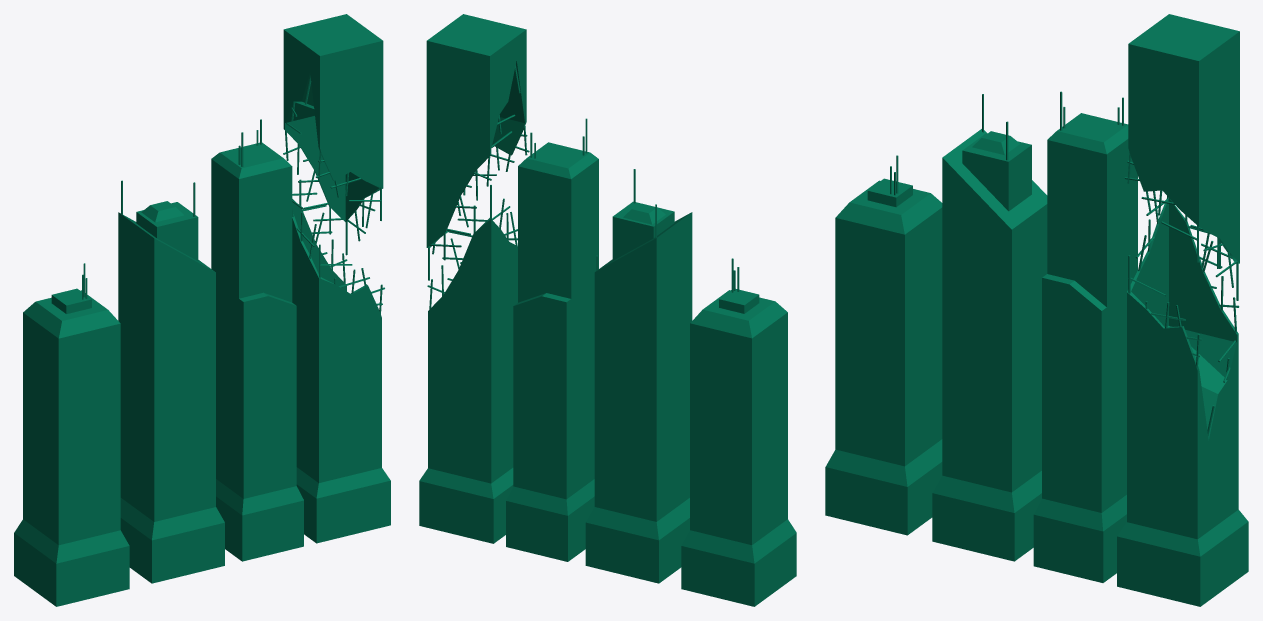
The model's file is MESH_Skyscraper_Pack.fbx.
3 renders of one model, left to right at view 1: azimuth 30°, elevation 25°; view 2: azimuth 150°, elevation 25°; view 3: azimuth 330°, elevation 25°, orthographic. The views are drawn at different scales.
Visible parts, largest first — view 1: Skyscraper_Two, Skyscraper_Three, Skyscraper_One, Skyscraper_Four_Lower, Skyscraper_Four_Upper; view 2: Skyscraper_Two, Skyscraper_Three, Skyscraper_One, Skyscraper_Four_Lower, Skyscraper_Four_Upper; view 3: Skyscraper_Two, Skyscraper_Four_Lower, Skyscraper_Three, Skyscraper_One, Skyscraper_Four_Upper.
Boxes of the visible parts, x1,y1,x2,y2 form: Skyscraper_Two: (118,180,224,583); Skyscraper_Three: (211,119,303,561); Skyscraper_One: (14,263,129,606); Skyscraper_Four_Lower: (292,179,390,543); Skyscraper_Four_Upper: (283,14,383,255); Skyscraper_Two: (585,169,692,583); Skyscraper_Three: (506,118,598,561); Skyscraper_One: (681,258,796,606); Skyscraper_Four_Lower: (419,185,517,543); Skyscraper_Four_Upper: (426,14,529,280); Skyscraper_Two: (932,94,1047,561); Skyscraper_Four_Lower: (1117,191,1248,606); Skyscraper_Three: (1033,91,1137,582); Skyscraper_One: (825,155,942,535); Skyscraper_Four_Upper: (1125,14,1239,300).
Bounding box in the file's own units: 27.09 × 37.29 × 6.
